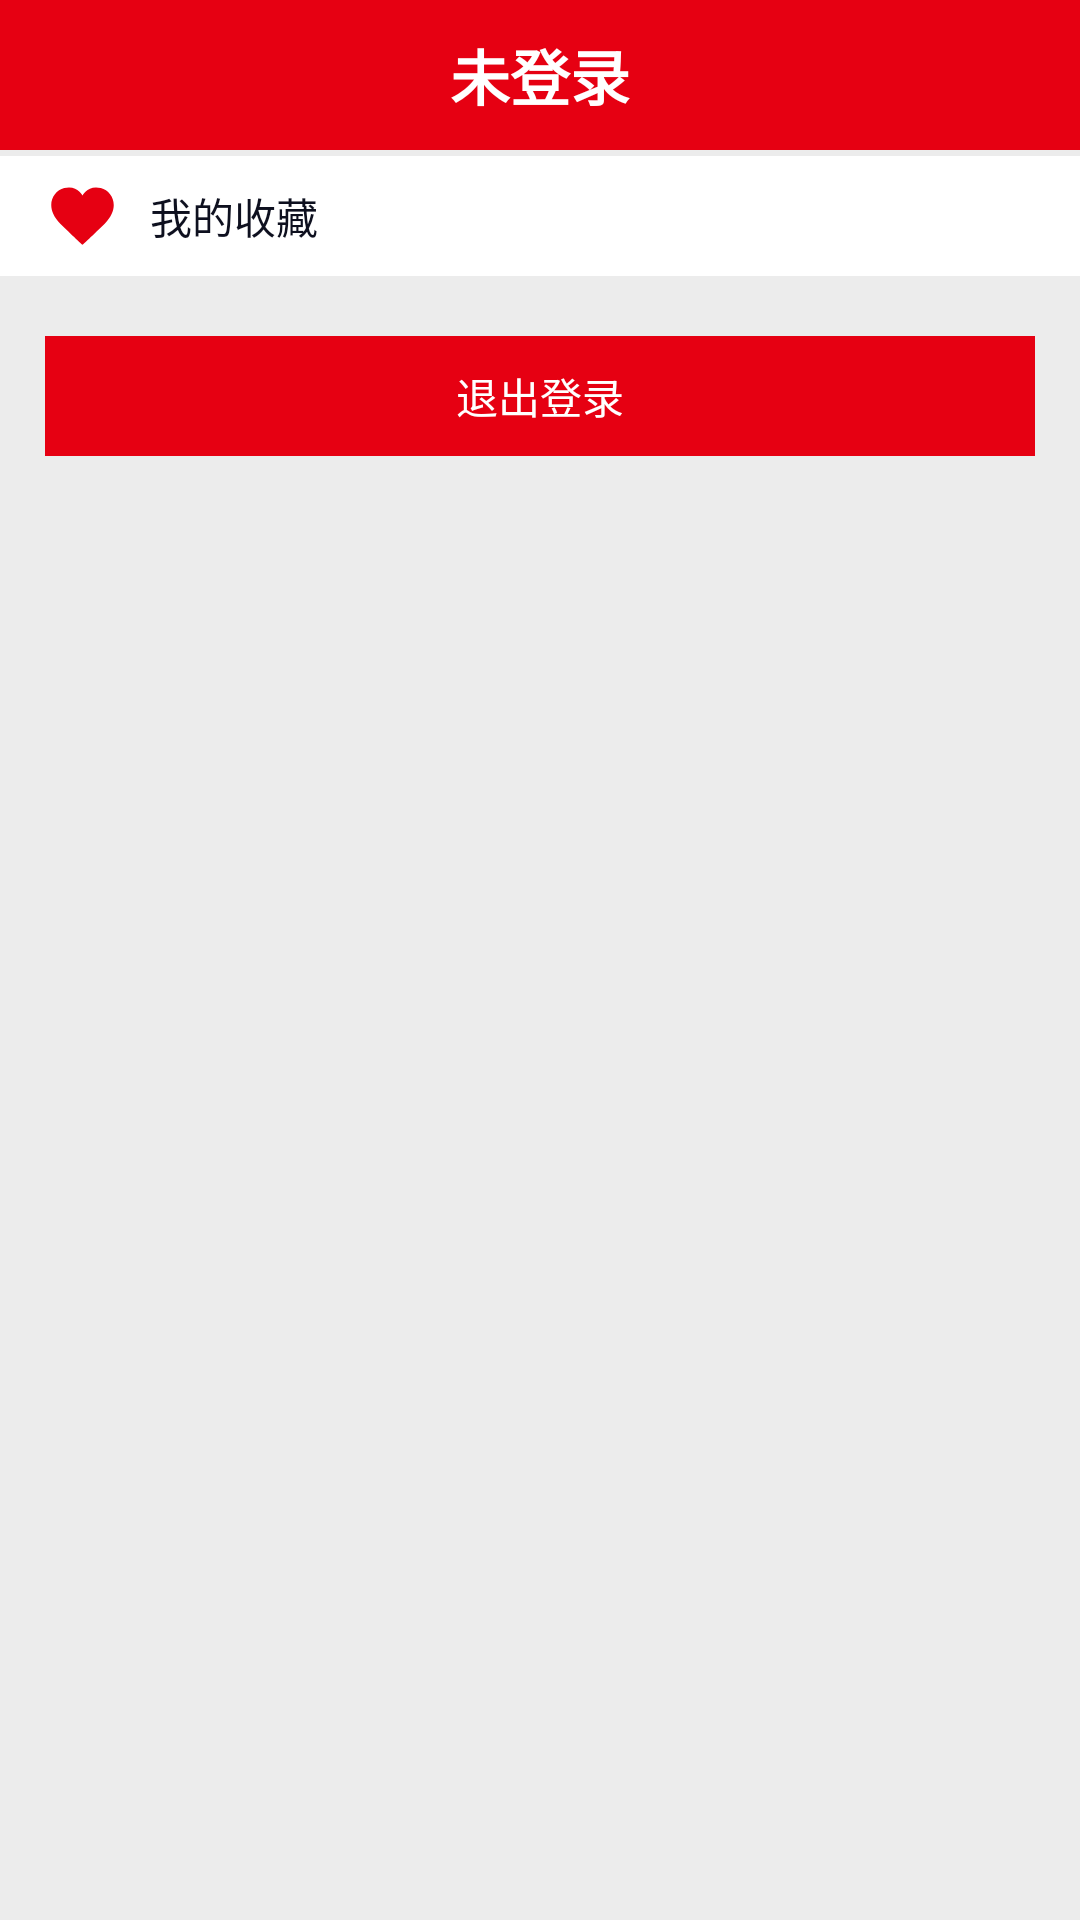

Icons on this 1080 × 1920 Android screen, each with the point to tap as (x,y):
collect: (82,216)
